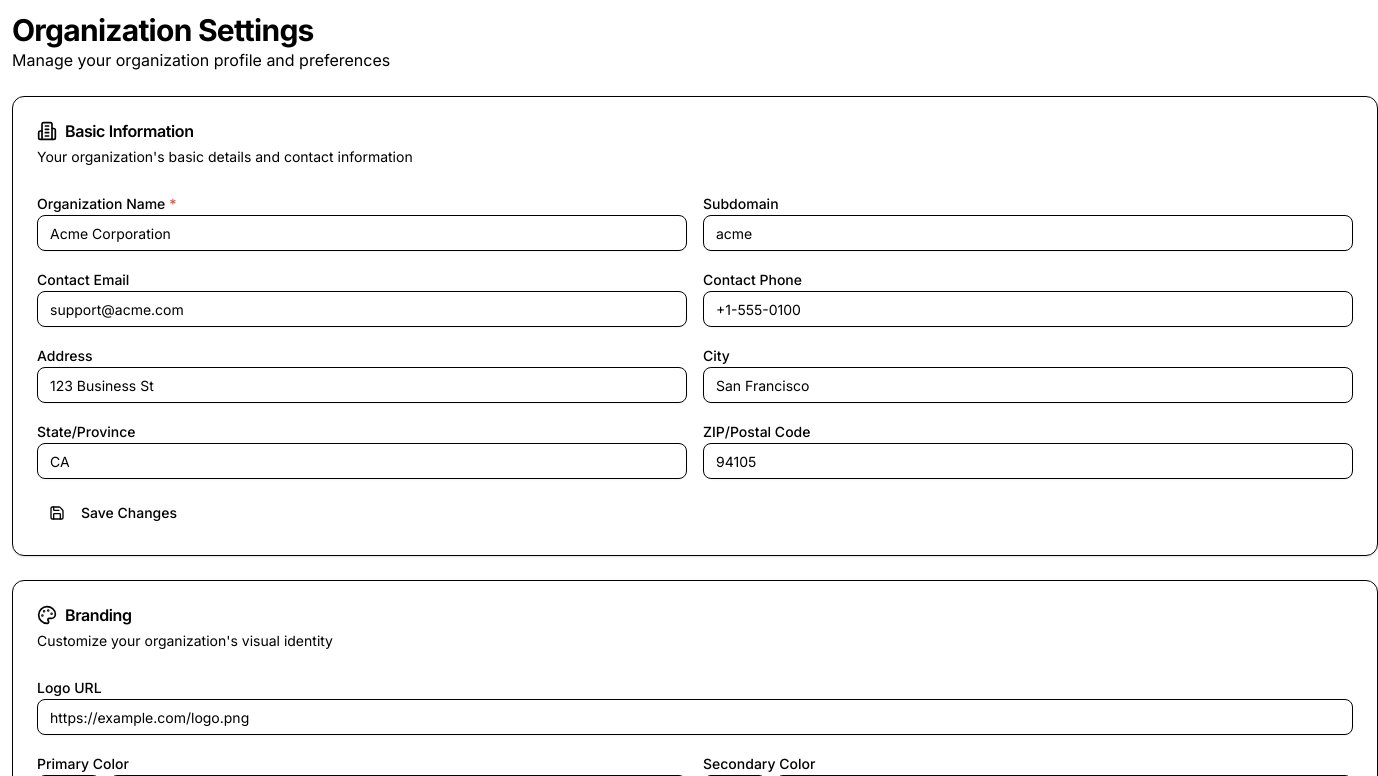
Test case: OrganizationSettings › Validation › should validate email format
The image size is (1378, 776).
Replace the text in the field labelled "Contact Email" with "invalid-email" at (362, 309), box [37,291,687,327]
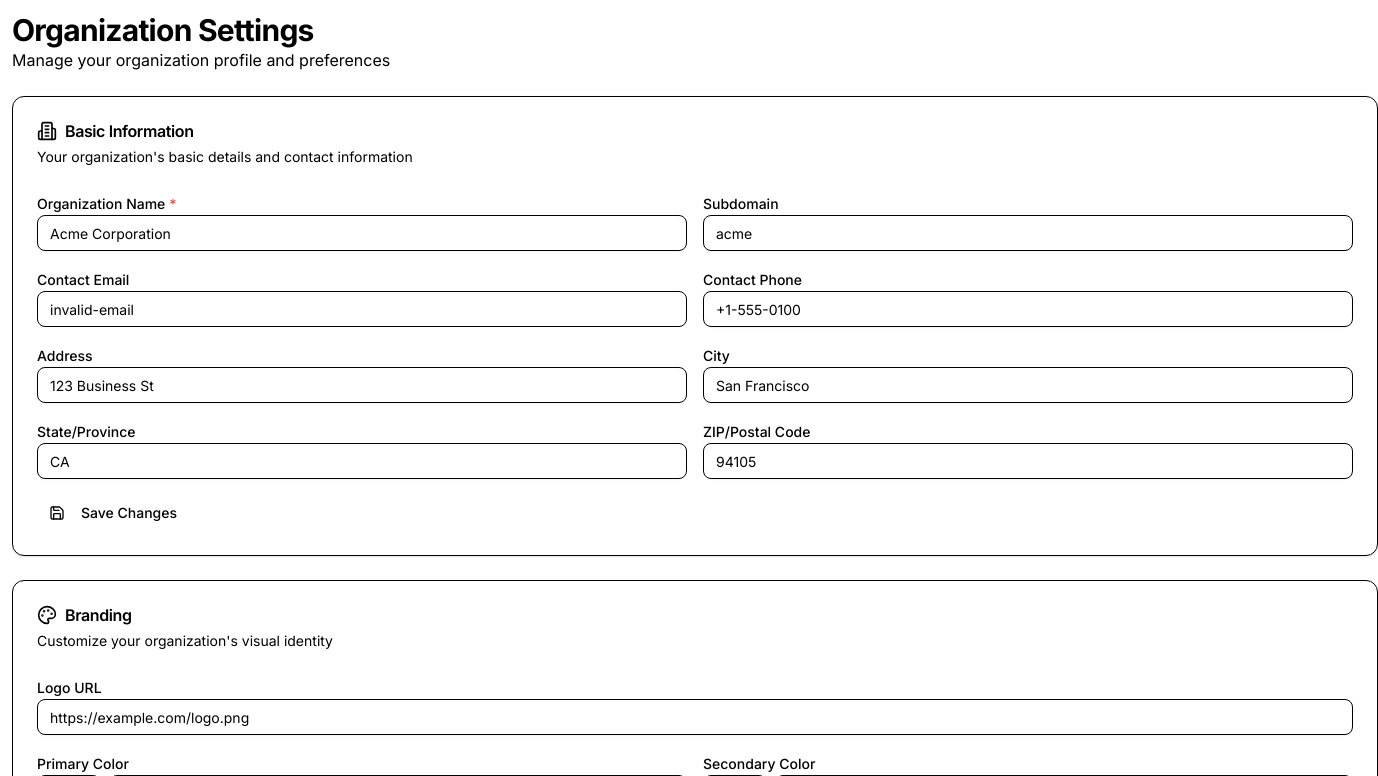
Click the button "Save Changes" at (113, 513), box [37,495,189,531]
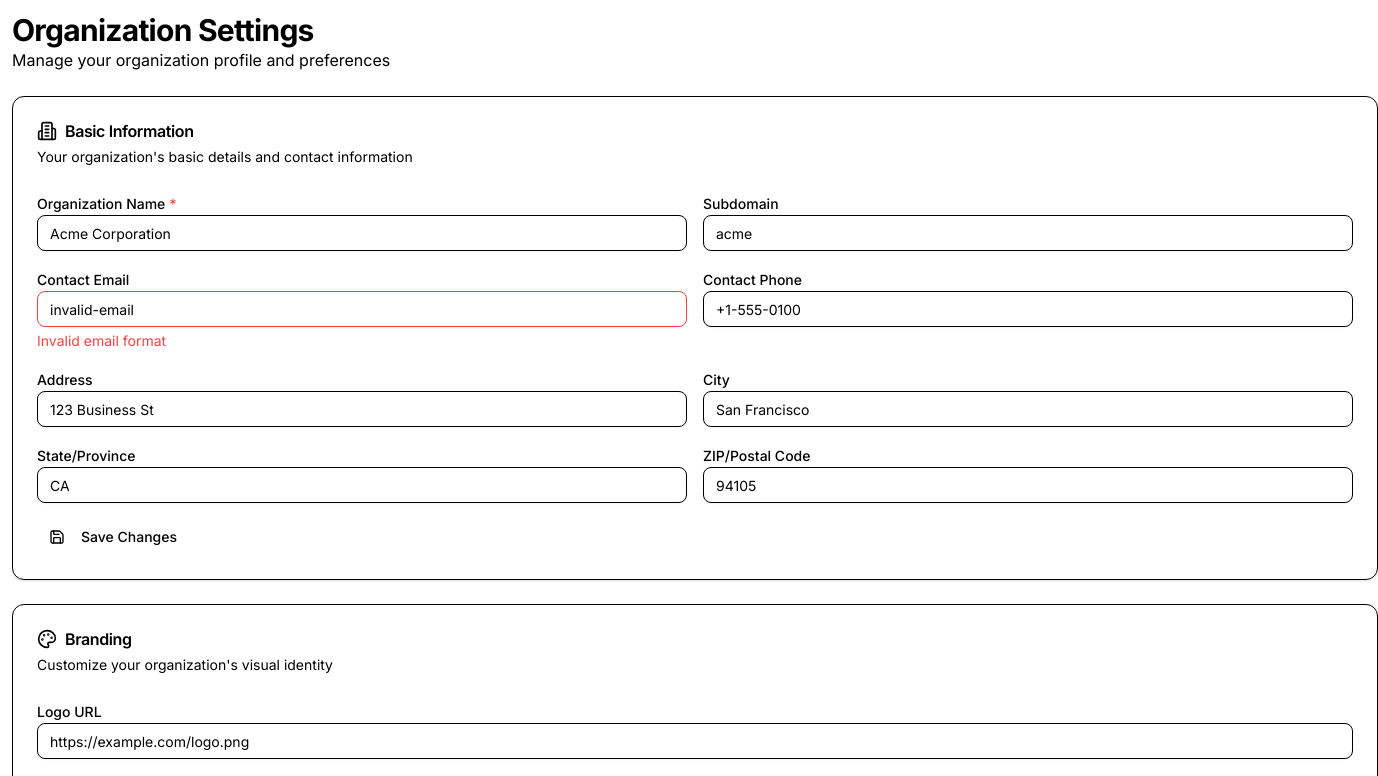
Result: the text "Invalid email format" is shown at [37,332,166,349]
